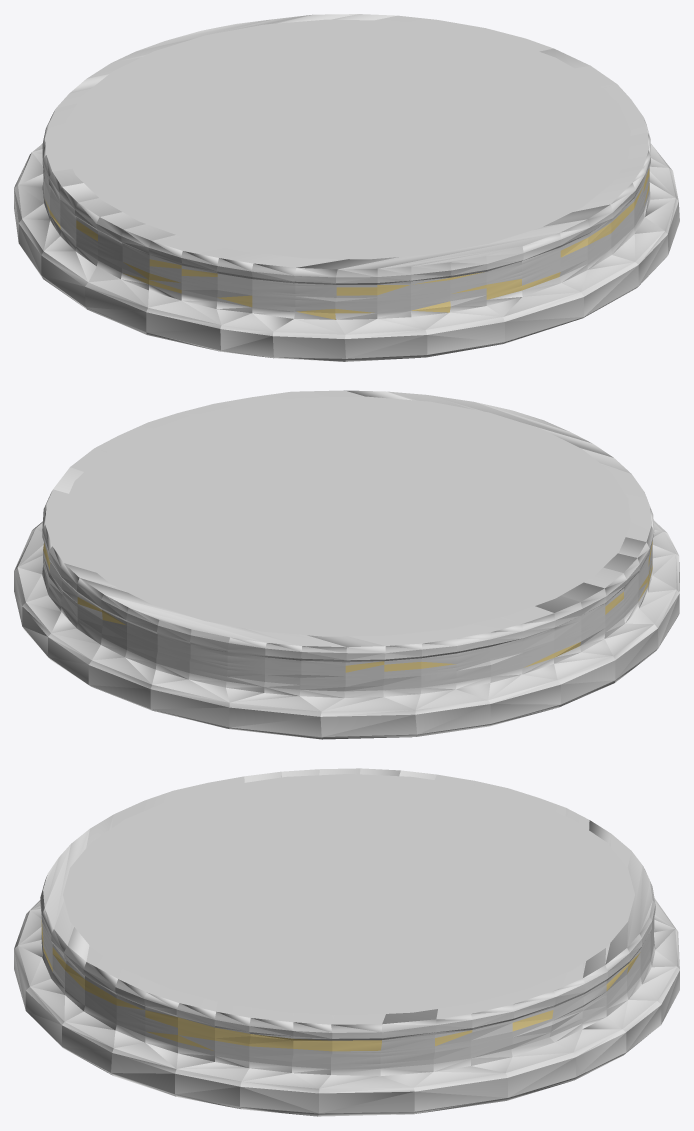
File: plinth_base.glb
3 views of the same model, one above another, from view 1: azimuth 30°, elevation 25°; view 2: azimuth 150°, elevation 25°; view 3: azimuth 270°, elevation 25° (orthographic).
Visible parts, largest first — view 1: base; view 2: base; view 3: base.
Part boxes in pixels (<box>): base: <box>14,14,679,361</box>; base: <box>14,390,679,739</box>; base: <box>14,768,679,1116</box>.
Size of the model in its own units: 0.9941 by 0.1378 by 0.9957.
